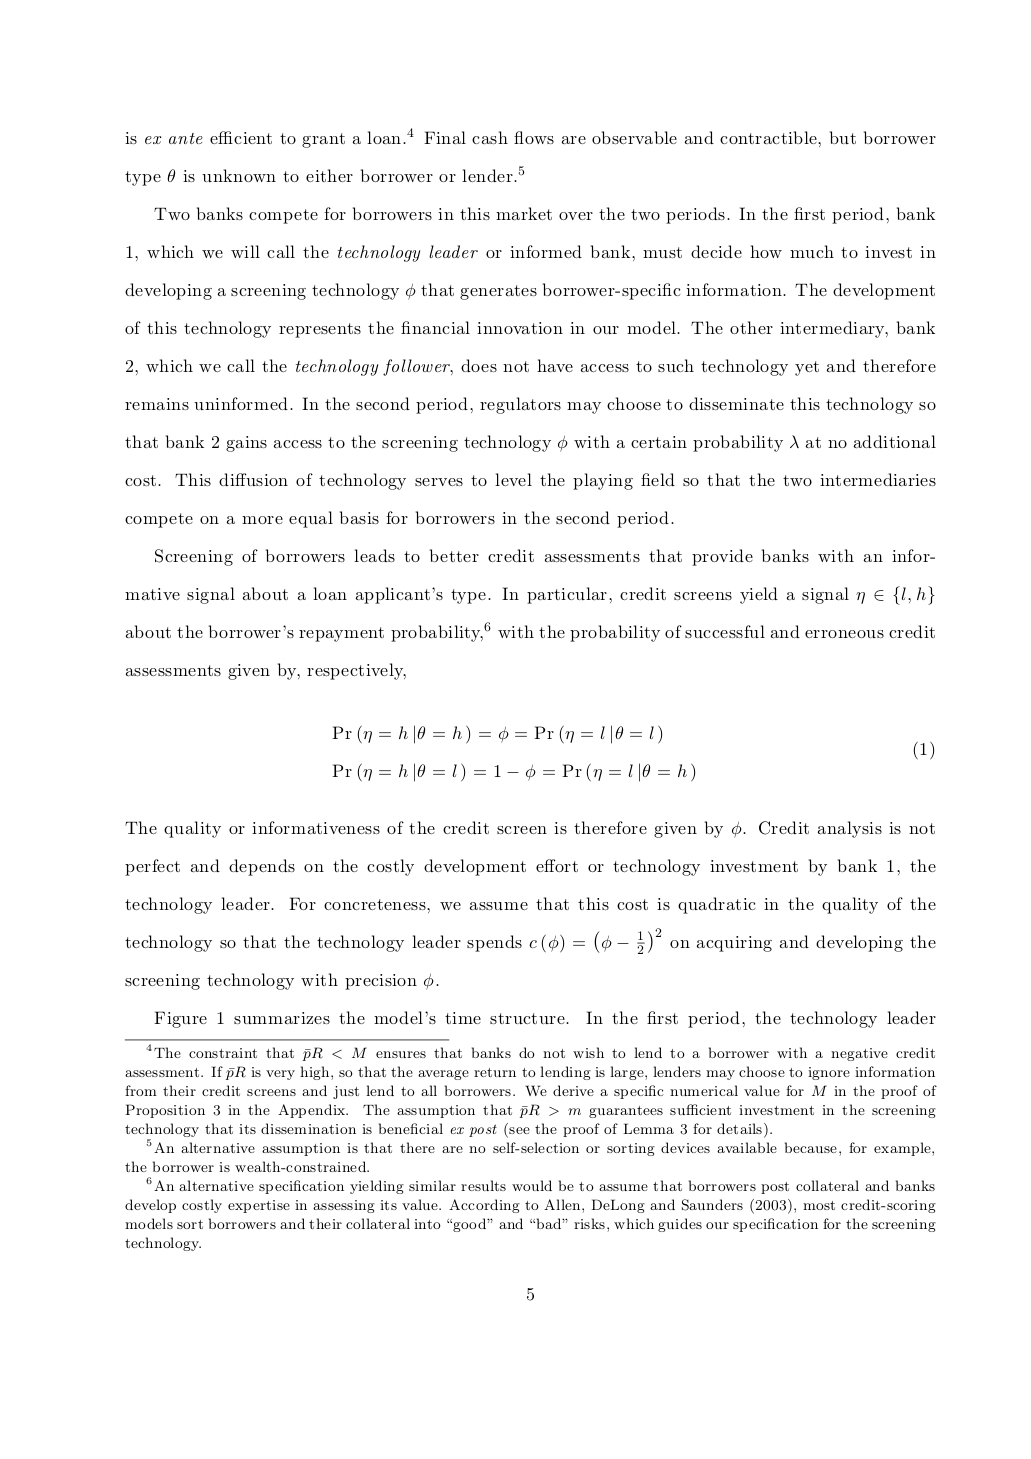figure: (124, 1038, 449, 1041)
formula: (333, 762, 695, 782), (333, 724, 662, 744)
